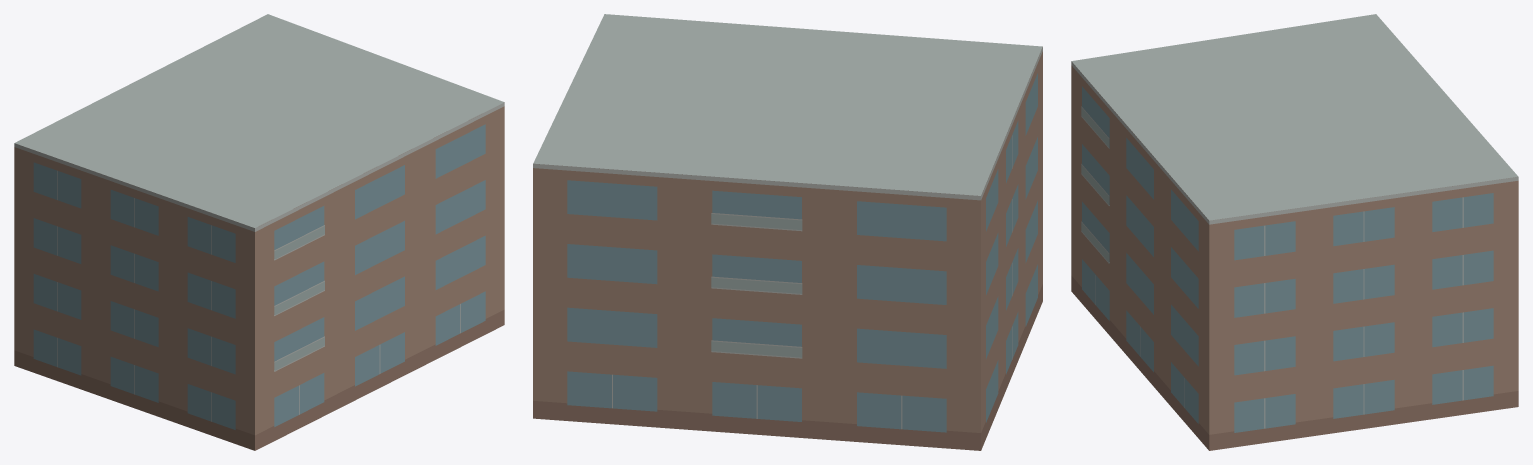
Rendered from survey-upis-32863676.glb.
3 renders of one model, left to right at view 1: azimuth 30°, elevation 25°; view 2: azimuth 150°, elevation 25°; view 3: azimuth 270°, elevation 25°, orthographic. The views are drawn at different scales.
Parts seen in each view (by area): view 1: survey-upis-32863676.tmp; view 2: survey-upis-32863676.tmp; view 3: survey-upis-32863676.tmp.
Part boxes in pixels (box(x1,y1,x2,y2)): survey-upis-32863676.tmp: box(14, 14, 504, 450); survey-upis-32863676.tmp: box(533, 14, 1042, 450); survey-upis-32863676.tmp: box(1071, 14, 1518, 450).
Bounding box in the file's own units: 27.15 × 14.1 × 24.82.
